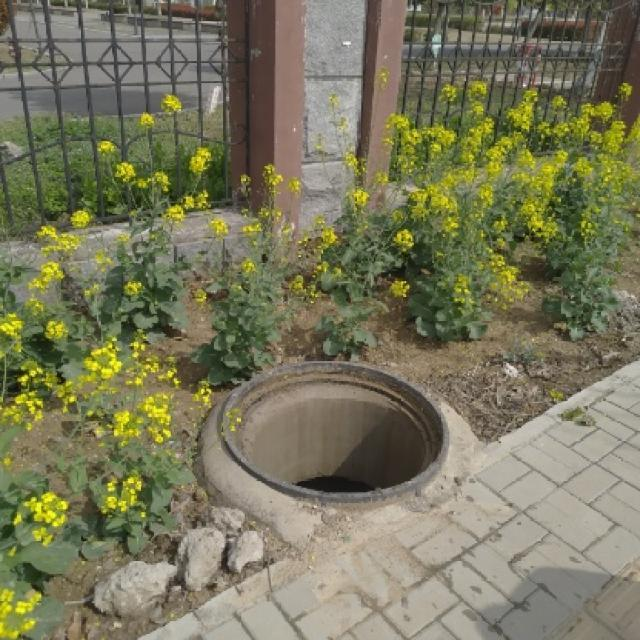Faulty: (198, 351, 474, 517)
